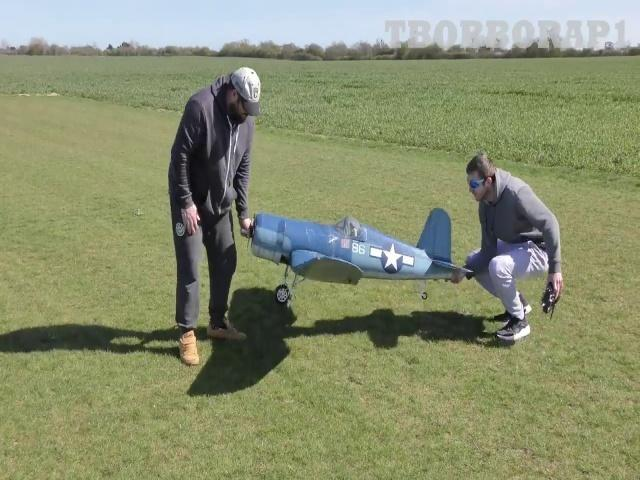Airplane: (250, 208, 472, 303)
